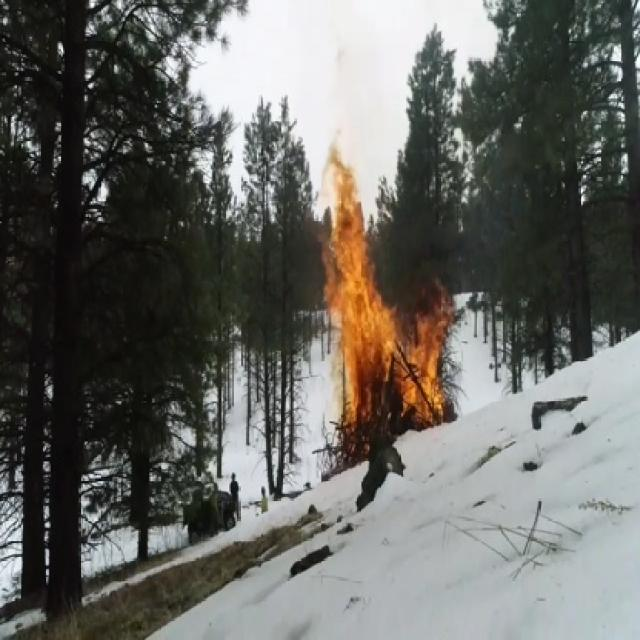Fire: (317, 137, 457, 461)
